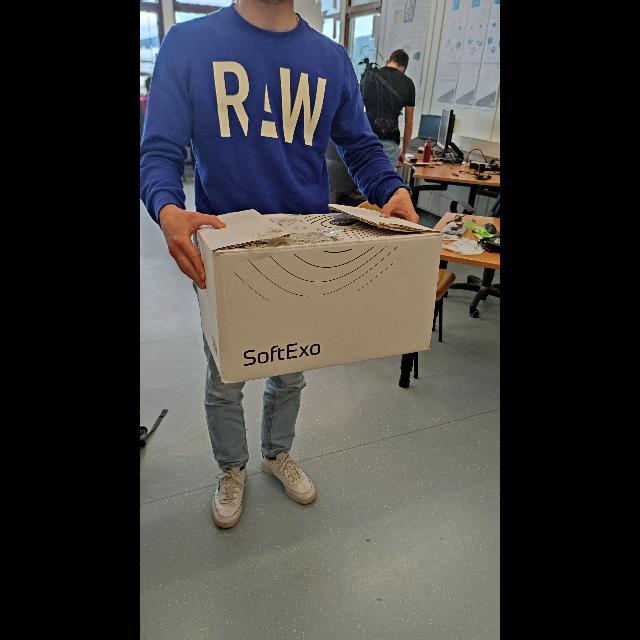cardboard_box: (172, 175, 446, 379)
